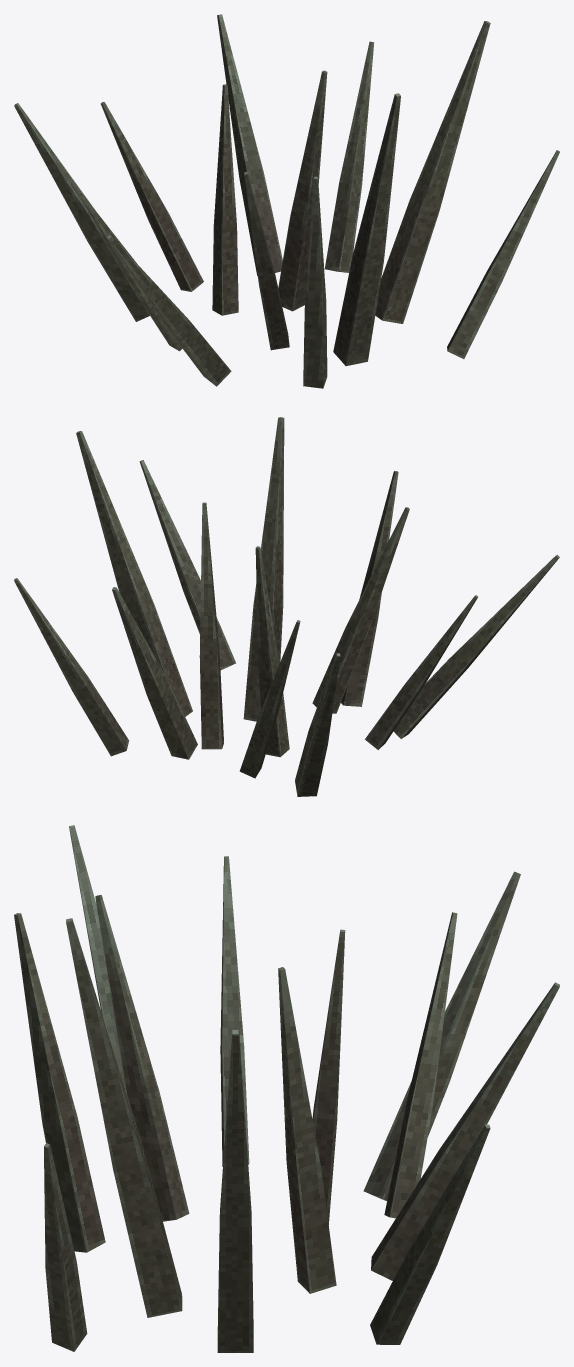
The model's file is spikes-1.glb.
3 renders of one model, top to bottom at view 1: azimuth 30°, elevation 25°; view 2: azimuth 150°, elevation 25°; view 3: azimuth 270°, elevation 25°, orthographic. The views are drawn at different scales.
Visible parts, largest first — view 1: Spikes_1; view 2: Spikes_1; view 3: Spikes_1.
Boxes of the visible parts, box(x1,y1,x2,y2) form: Spikes_1: box(14, 14, 559, 388); Spikes_1: box(14, 417, 559, 796); Spikes_1: box(14, 825, 559, 1352).
Size of the model in its own units: 3.76 by 2.33 by 2.88.
Materials: 1 (1 with a texture image).
